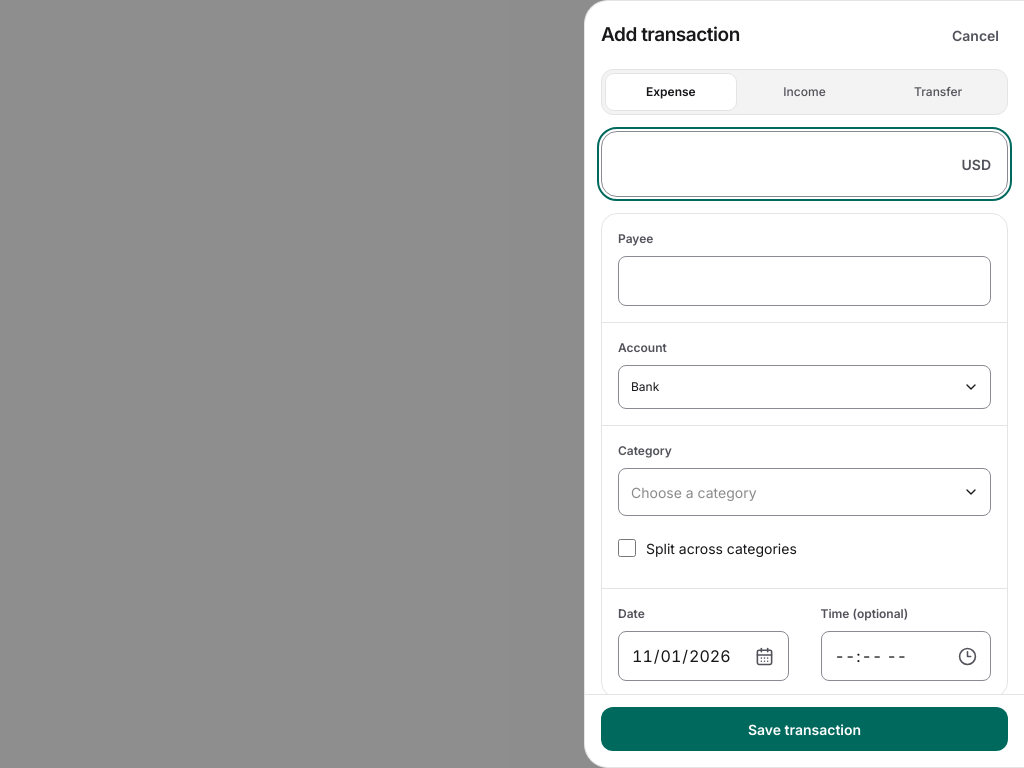
it: moves between an entry and a transfer in the Add sheet without losing the pill
Expected: the field named "Amount (USD)" is shown, [618,132,950,196]
Click the radio button labelled "Transfer".
click(938, 92)  # box [872,73,1004,111]
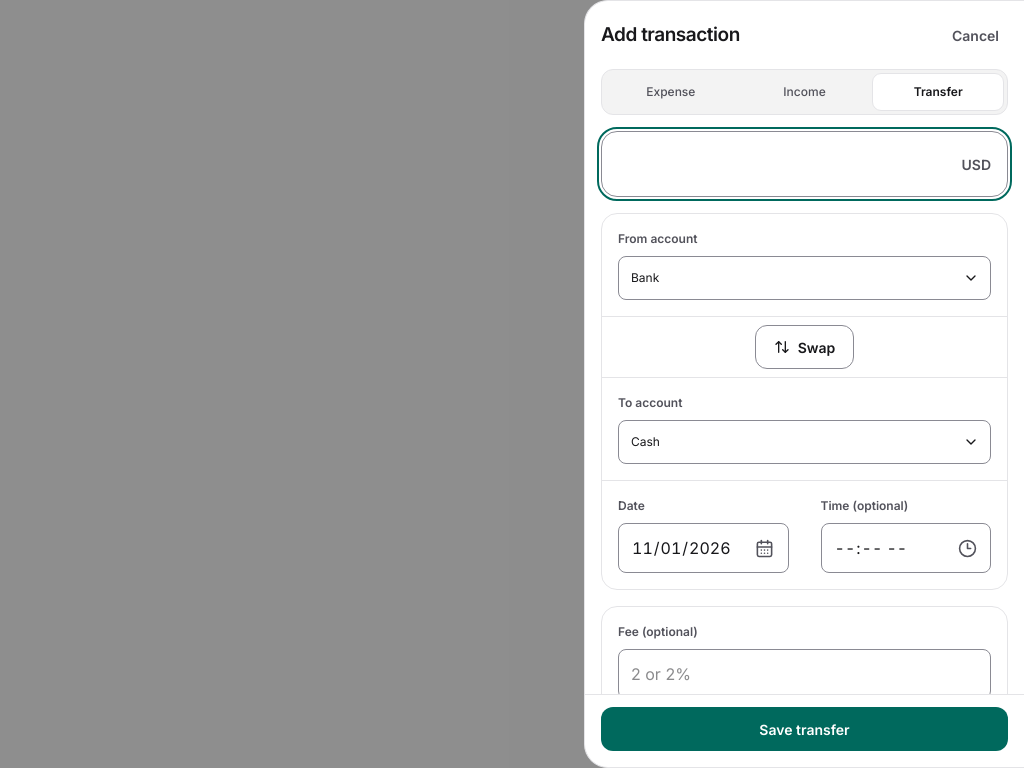
Result: the dropdown labelled "From account" is shown at [618,256,991,300]
Result: the radio button labelled "Transfer" is checked at [872,73,1004,111]
Click the radio button labelled "Income".
click(805, 92)  # box [739,73,870,111]
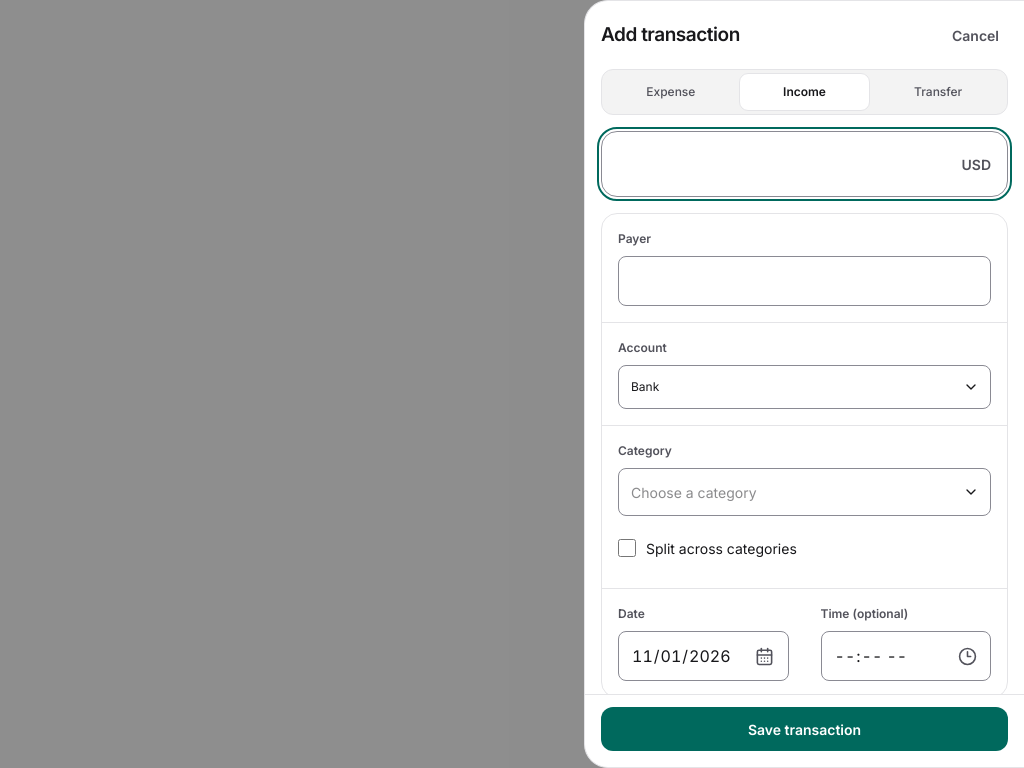
Result: the field labelled "Payer" is shown at [618,256,991,306]
Result: the radio button labelled "Income" is checked at [739,73,870,111]
